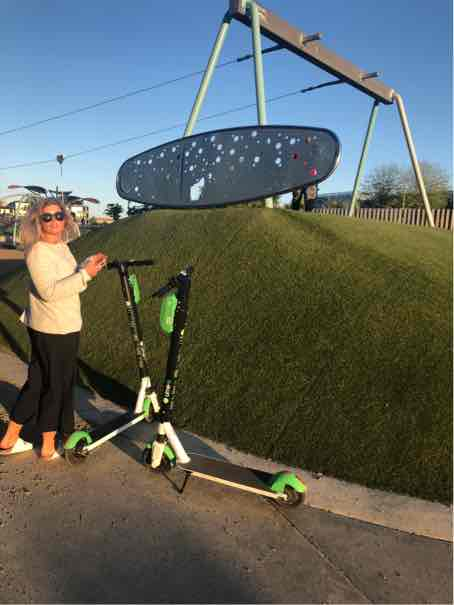scooter: (107, 246, 321, 512), (61, 250, 177, 490)
